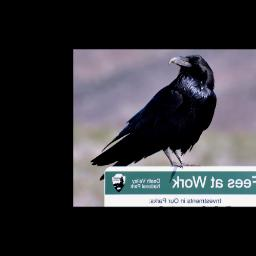Crow: (90, 54, 217, 182)
